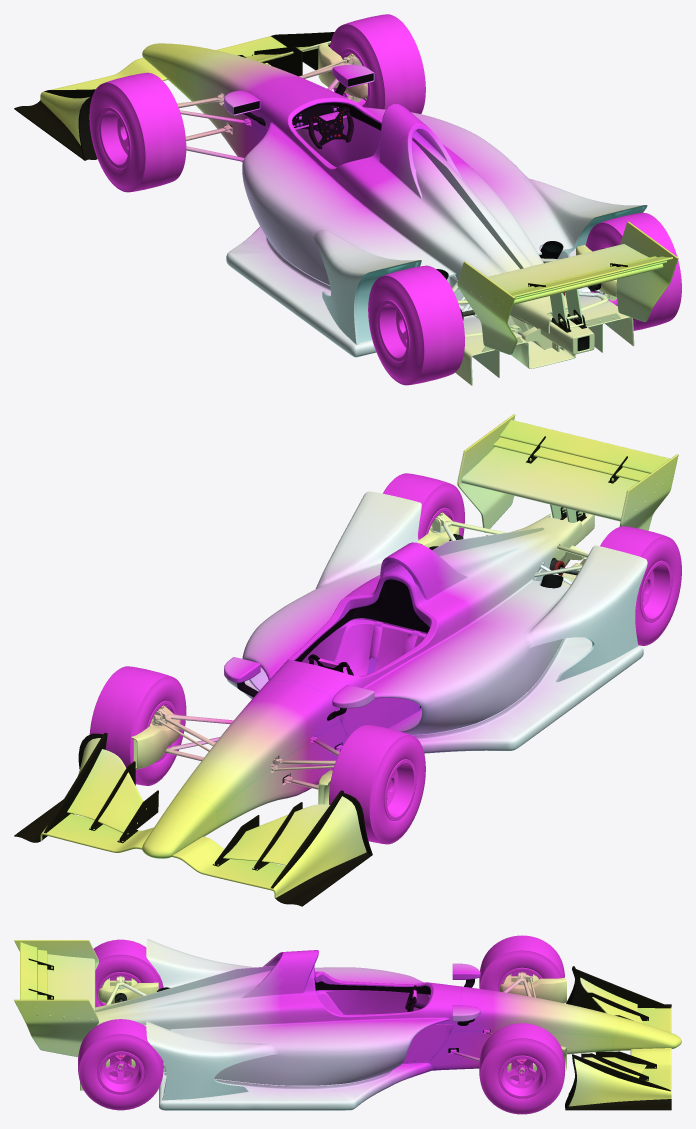
Rendered from openwheel2.glb.
3 views of the same model, one above another, from view 1: azimuth 30°, elevation 25°; view 2: azimuth 150°, elevation 25°; view 3: azimuth 270°, elevation 25° (orthographic). The views are drawn at different scales.
Parts seen in each view (by area): view 1: misc_b, misc_w, extra_11, wheel_lf, wheel_lr, misc_f, chassis, wheel_rf, extra_2, misc_h, extra_3, wheel_rr (+9 smaller); view 2: misc_b, misc_f, misc_w, chassis, misc_h, extra_2, extra_11, wheel_lf, wheel_rf, extra_3, wheel_lr, extra_7 (+8 smaller); view 3: misc_b, misc_f, misc_w, wheel_rf, wheel_rr, extra_11, extra_3, misc_h, chassis, wheel_lf, extra_8, wheel_lr (+7 smaller).
Boxes of the visible parts, bbox=[...] form: misc_b: bbox=[242, 87, 569, 333]; misc_w: bbox=[457, 221, 678, 354]; extra_11: bbox=[226, 227, 634, 385]; wheel_lf: bbox=[89, 72, 186, 192]; wheel_lr: bbox=[368, 265, 464, 385]; misc_f: bbox=[14, 32, 334, 160]; chassis: bbox=[177, 60, 605, 354]; wheel_rf: bbox=[330, 14, 425, 113]; extra_2: bbox=[310, 226, 421, 344]; misc_h: bbox=[174, 47, 326, 134]; extra_3: bbox=[524, 176, 647, 253]; wheel_rr: bbox=[586, 212, 681, 330]; misc_b: bbox=[242, 513, 582, 734]; misc_f: bbox=[14, 733, 372, 906]; misc_w: bbox=[457, 414, 678, 532]; chassis: bbox=[160, 513, 594, 789]; misc_h: bbox=[176, 680, 340, 812]; extra_2: bbox=[524, 545, 647, 682]; extra_11: bbox=[227, 534, 643, 753]; wheel_lf: bbox=[329, 724, 425, 844]; wheel_rf: bbox=[89, 666, 186, 785]; extra_3: bbox=[315, 491, 421, 588]; wheel_lr: bbox=[600, 526, 681, 645]; extra_7: bbox=[216, 721, 348, 828]; misc_b: bbox=[95, 950, 461, 1085]; misc_f: bbox=[565, 966, 671, 1110]; misc_w: bbox=[14, 940, 98, 1056]; wheel_rf: bbox=[479, 1023, 564, 1114]; wheel_rr: bbox=[78, 1019, 163, 1110]; extra_11: bbox=[80, 1061, 435, 1110]; extra_3: bbox=[146, 1021, 278, 1100]; misc_h: bbox=[451, 986, 619, 1038]; chassis: bbox=[107, 978, 535, 1062]; wheel_lf: bbox=[479, 935, 564, 991]; extra_8: bbox=[430, 1031, 613, 1070]; wheel_lr: bbox=[93, 939, 163, 1007].
Size of the model in its own units: 1.94 by 0.9579 by 5.13.
20 materials, 8 textured.
